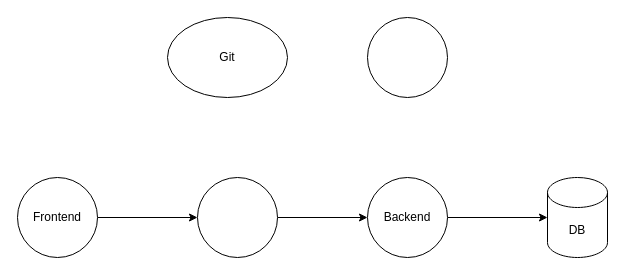
The diagram is 625 pixels wide and 275 high, and some of its shapes have lost their labels. Each missing label, with the centre of its shape:
"Jenkins" goes at point 407,57.
"RESTful API" goes at point 237,217.
